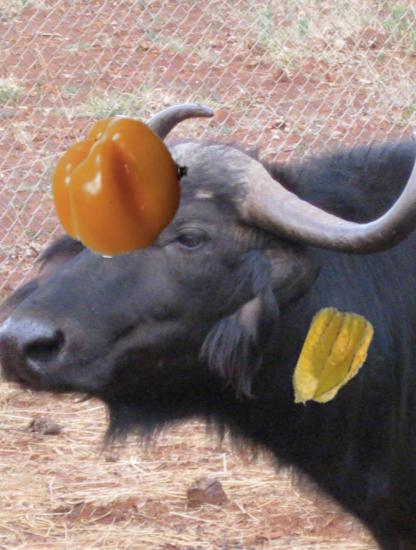Pepper: (47, 115, 191, 259)
Physalis: (278, 307, 386, 415)
